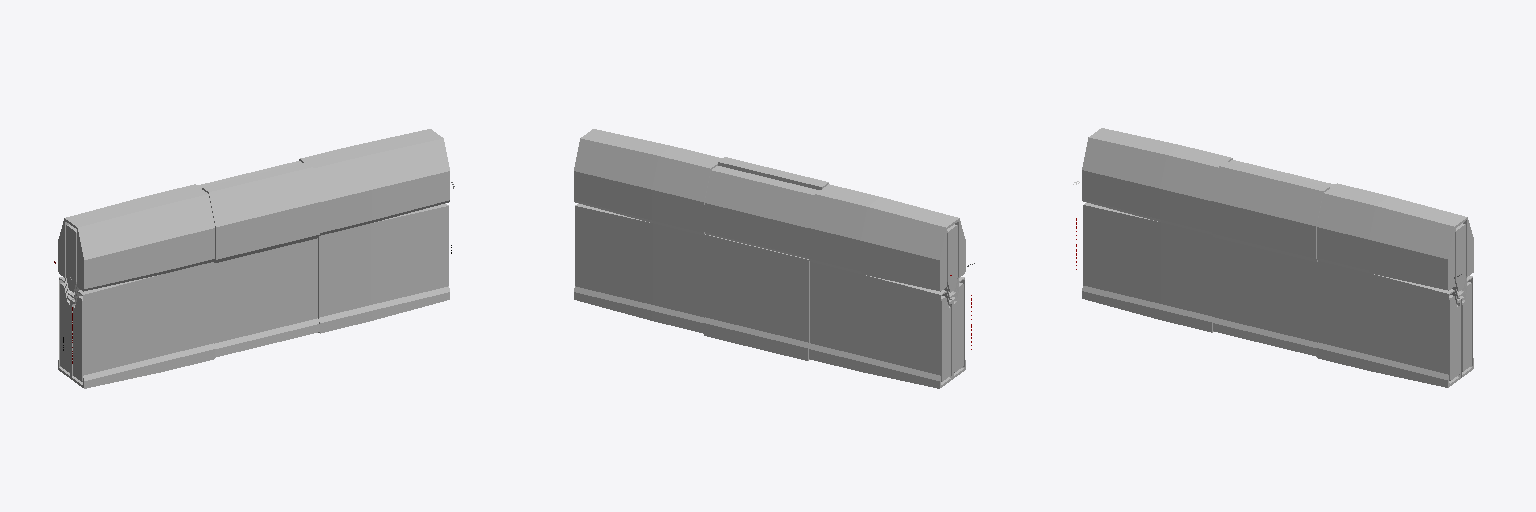
3 renders of one model, left to right at view 1: azimuth 30°, elevation 25°; view 2: azimuth 150°, elevation 25°; view 3: azimuth 330°, elevation 25°, orthographic.
Visible parts, largest first — view 1: Door_Left_Mat_Door_Main_0; view 2: Door_Left_Mat_Door_Main_0; view 3: Door_Left_Mat_Door_Main_0.
Part boxes in pixels (bbox=[...]): Door_Left_Mat_Door_Main_0: bbox=[54, 129, 454, 388]; Door_Left_Mat_Door_Main_0: bbox=[574, 129, 974, 388]; Door_Left_Mat_Door_Main_0: bbox=[1073, 128, 1473, 387].
Bounding box in the file's own units: 1.97 × 0.7785 × 0.2405.
Materials: 2 (1 with a texture image).